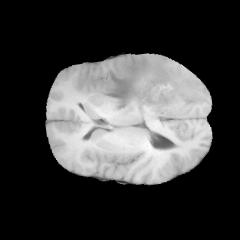glioma: (102, 54, 207, 113)
